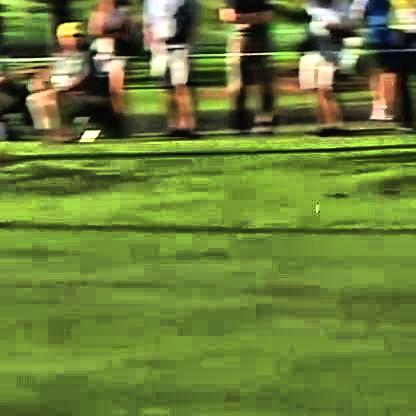golfball: (311, 197, 316, 208)
